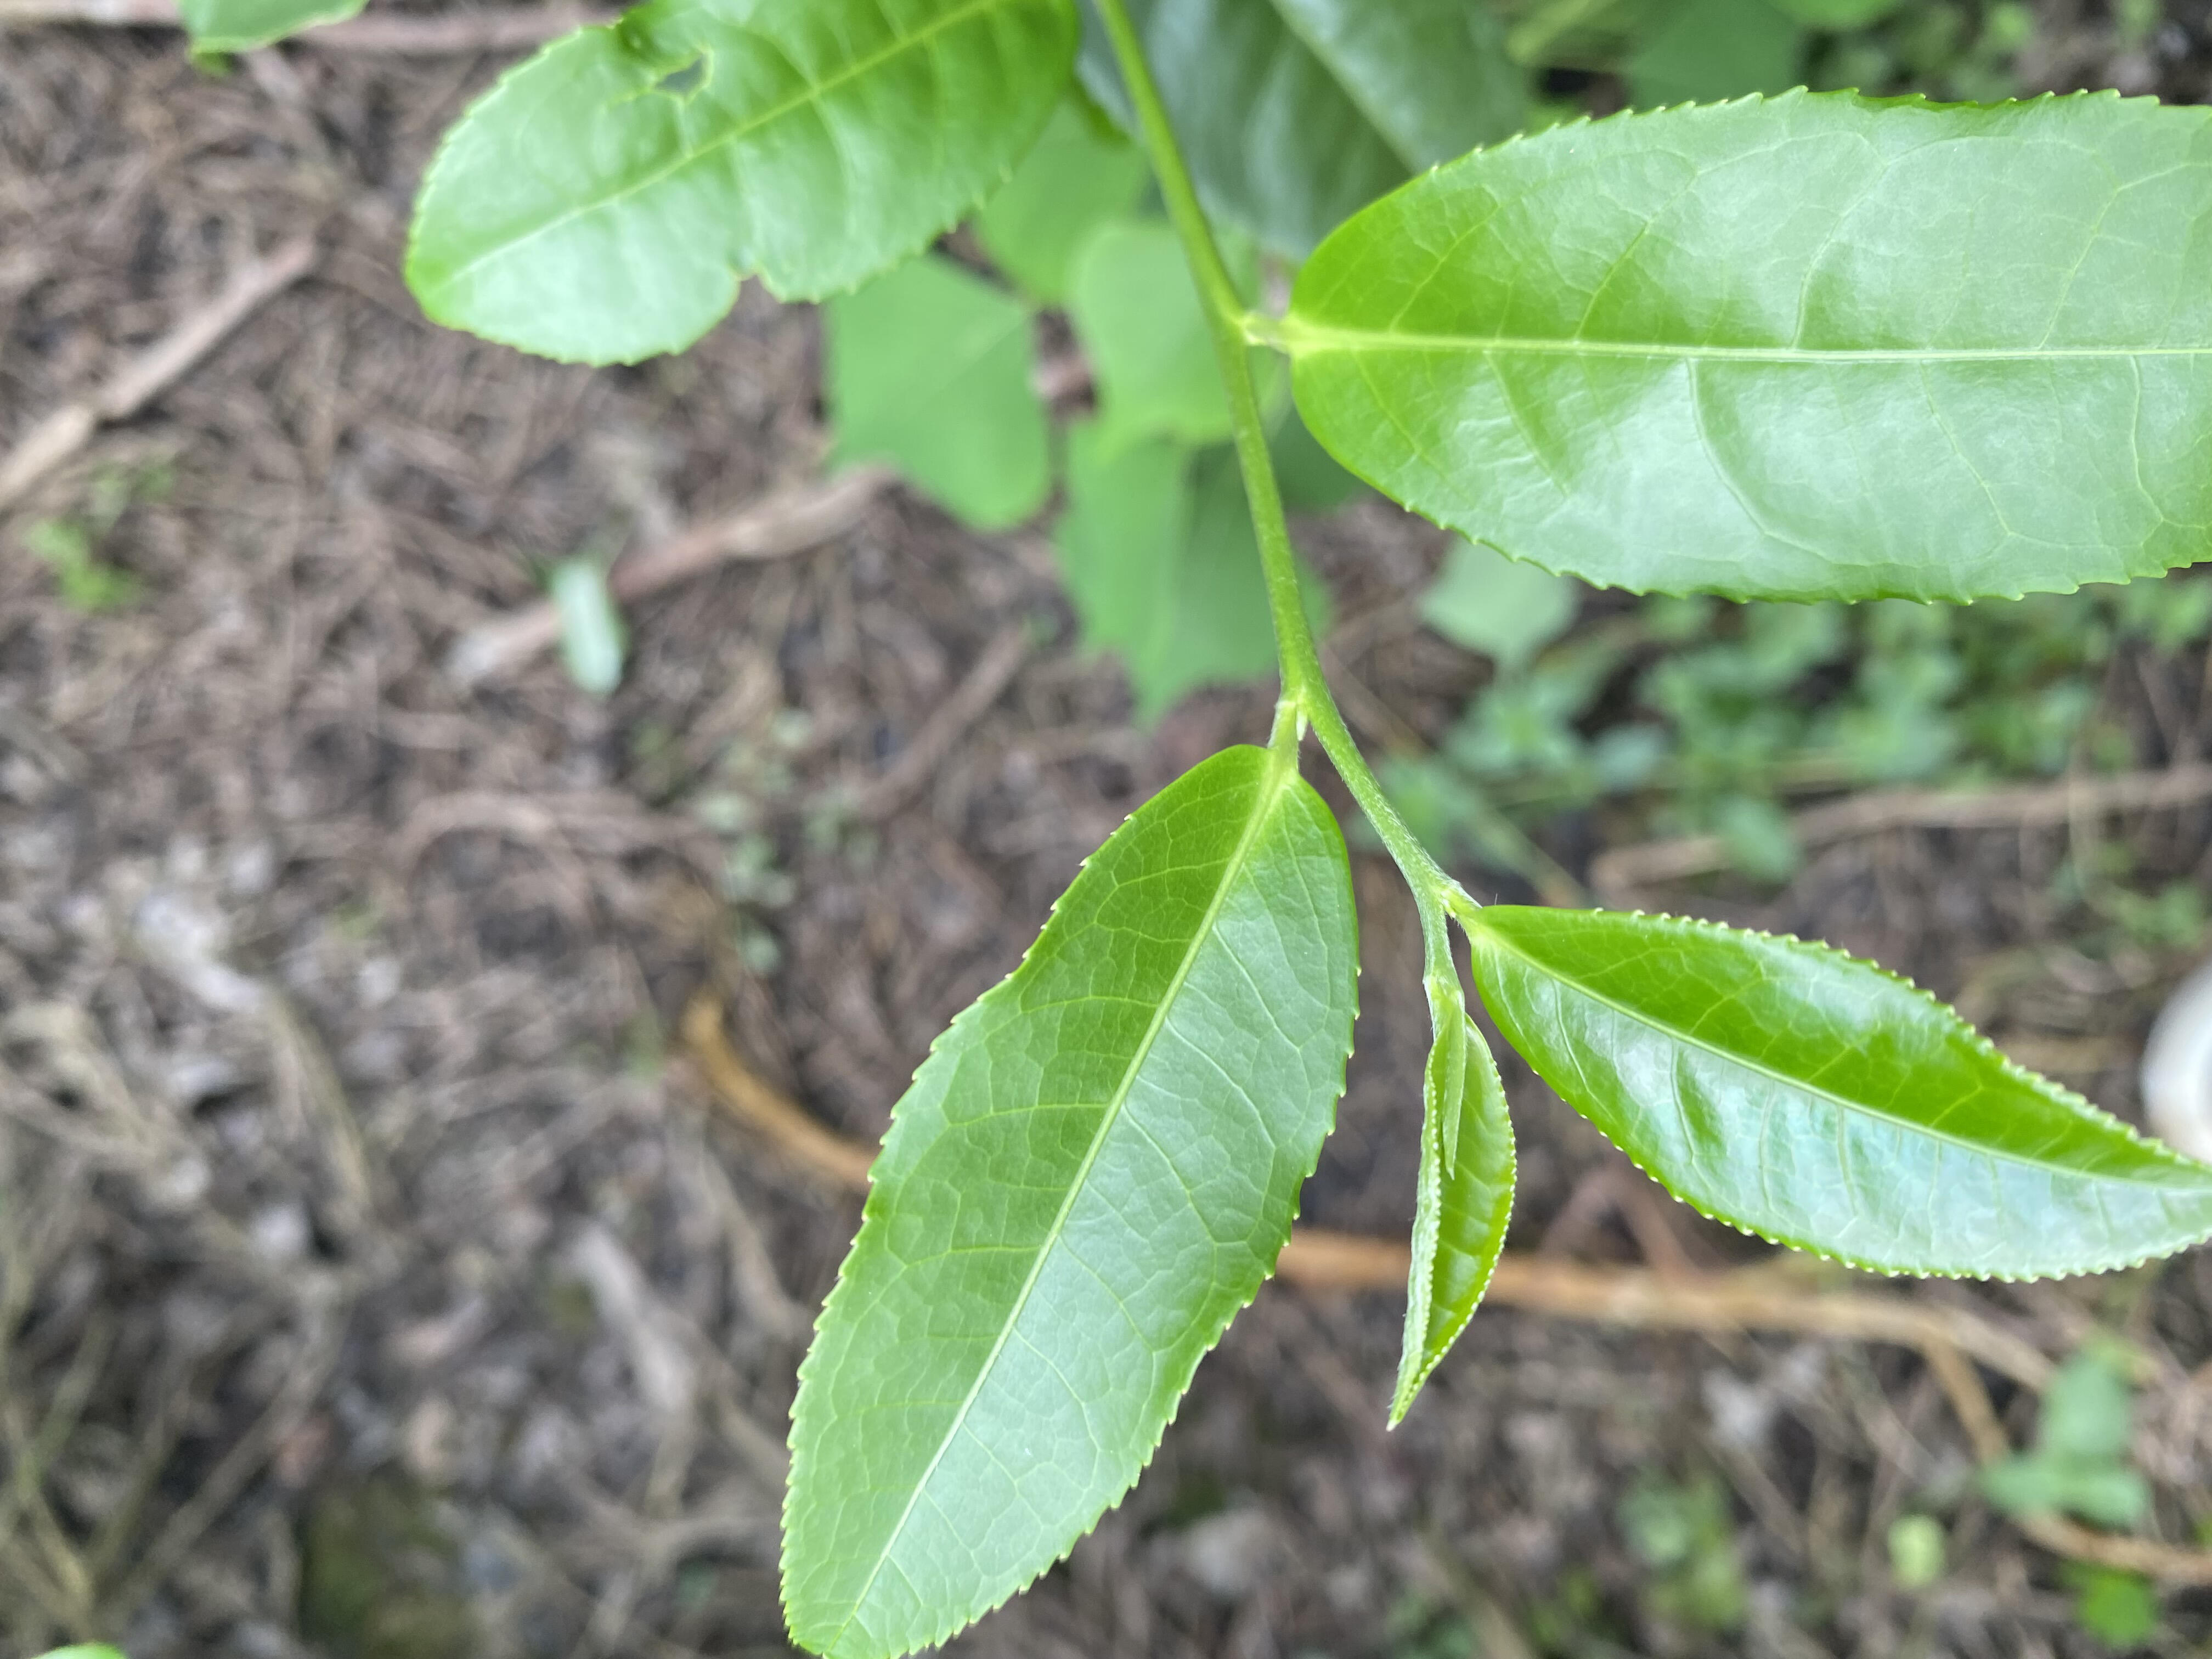chihuo_high: (401, 3, 1089, 366)
healthy: (773, 744, 1362, 1659), (1289, 84, 2209, 612), (1470, 901, 2210, 1288)
